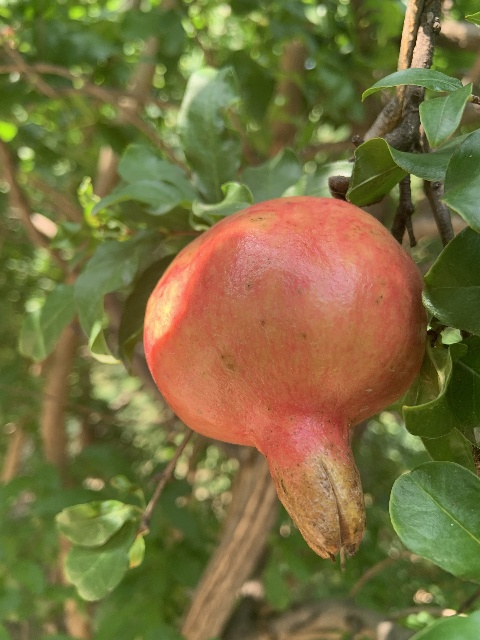ripe: (144, 195, 425, 573)
